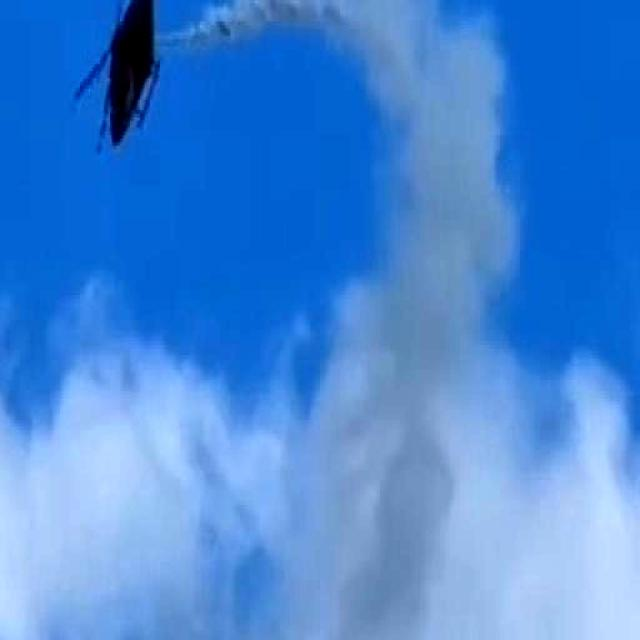drone: (84, 0, 205, 146)
